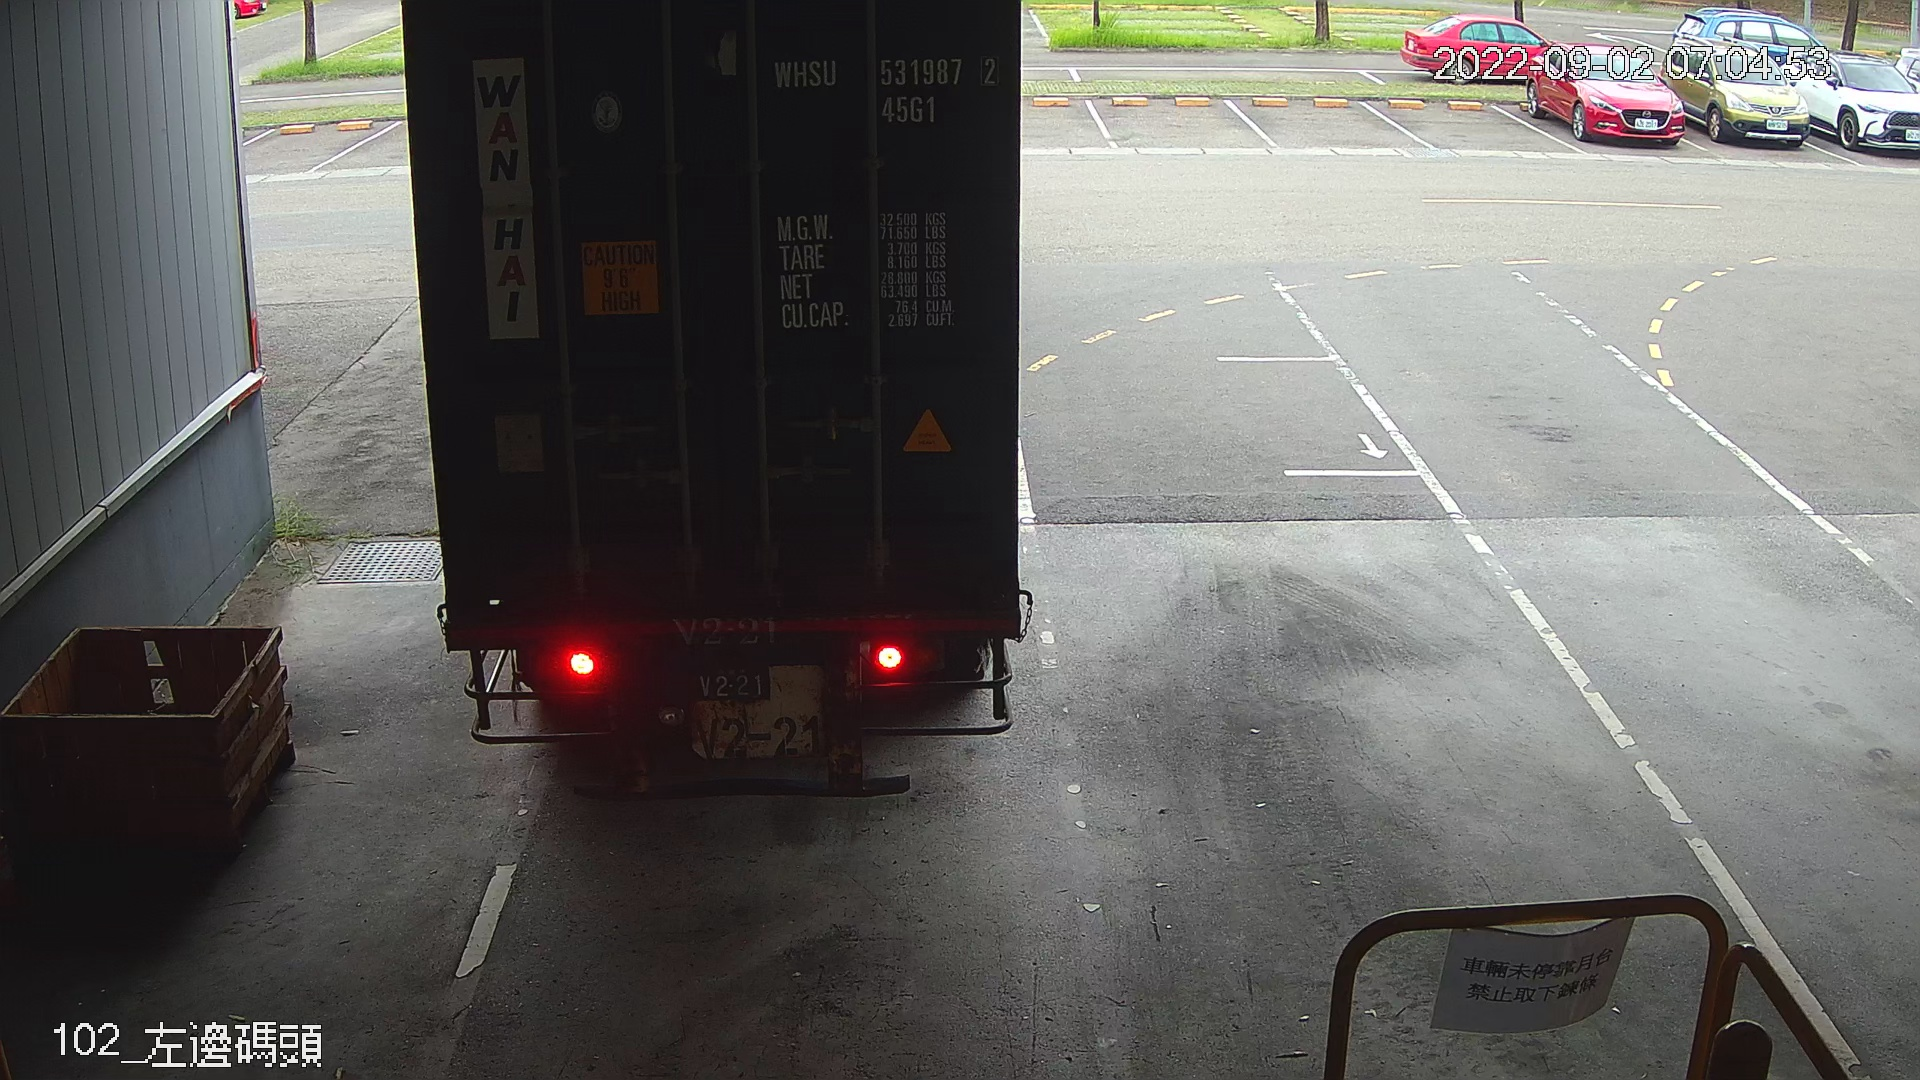container: (764, 45, 1006, 132)
